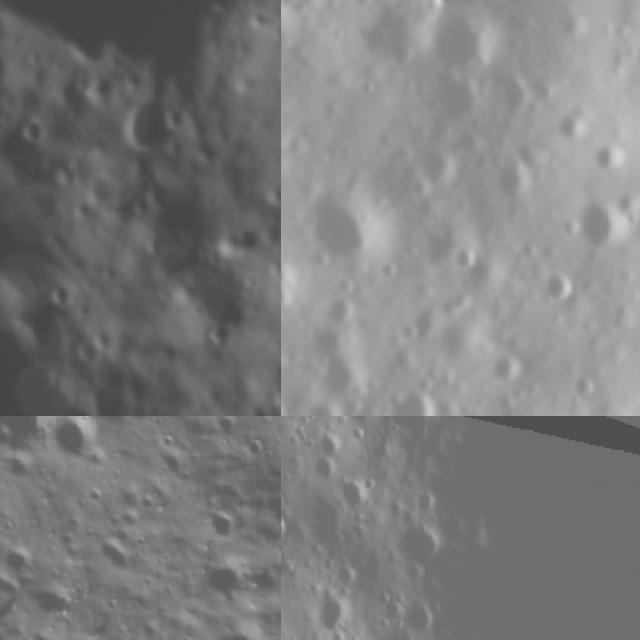crater: (285, 167, 404, 291), (408, 0, 510, 88), (551, 183, 640, 272), (412, 60, 501, 144), (20, 566, 89, 632), (574, 120, 640, 185), (42, 416, 111, 477), (363, 375, 456, 416), (193, 551, 254, 613), (0, 416, 64, 471), (539, 94, 601, 150), (312, 280, 372, 335), (528, 256, 584, 314), (476, 343, 536, 397), (91, 526, 142, 585), (392, 524, 448, 576), (126, 97, 176, 153), (149, 440, 198, 494), (303, 591, 354, 640), (442, 235, 494, 283), (202, 501, 250, 552), (561, 362, 608, 408), (0, 533, 44, 582), (208, 613, 274, 640), (398, 602, 438, 640), (334, 477, 372, 516), (310, 457, 342, 491), (316, 432, 350, 463), (12, 116, 49, 144), (72, 336, 106, 366), (120, 416, 171, 435), (202, 320, 230, 351), (281, 506, 296, 547), (54, 282, 76, 304)
